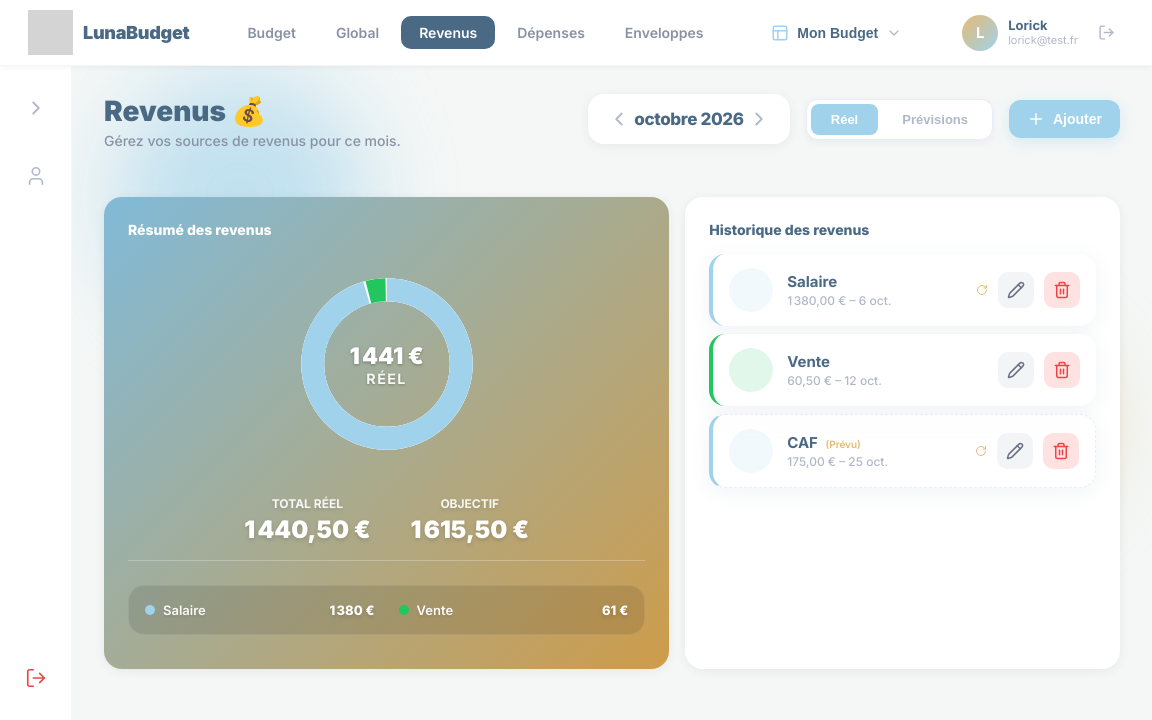
Scenario: cache des données › revenir sur une page déjà visitée l'affiche immédiatement, sans nouvelle requête
Click the link "Dépenses" at (551,32), box [517,24,585,41]
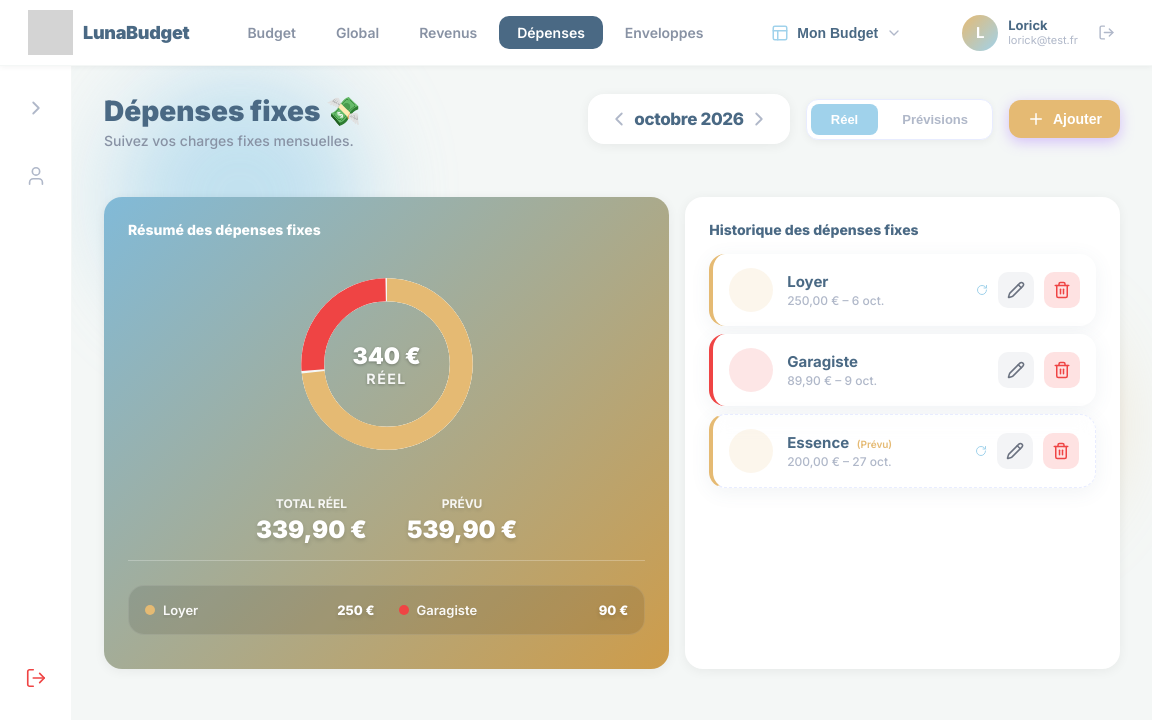
Now the element that starts with "LunaBudget" shows "Historique des dépenses fixes", box [709,221,919,238]
Click the link "Revenus" at (448,32), box [419,24,477,41]
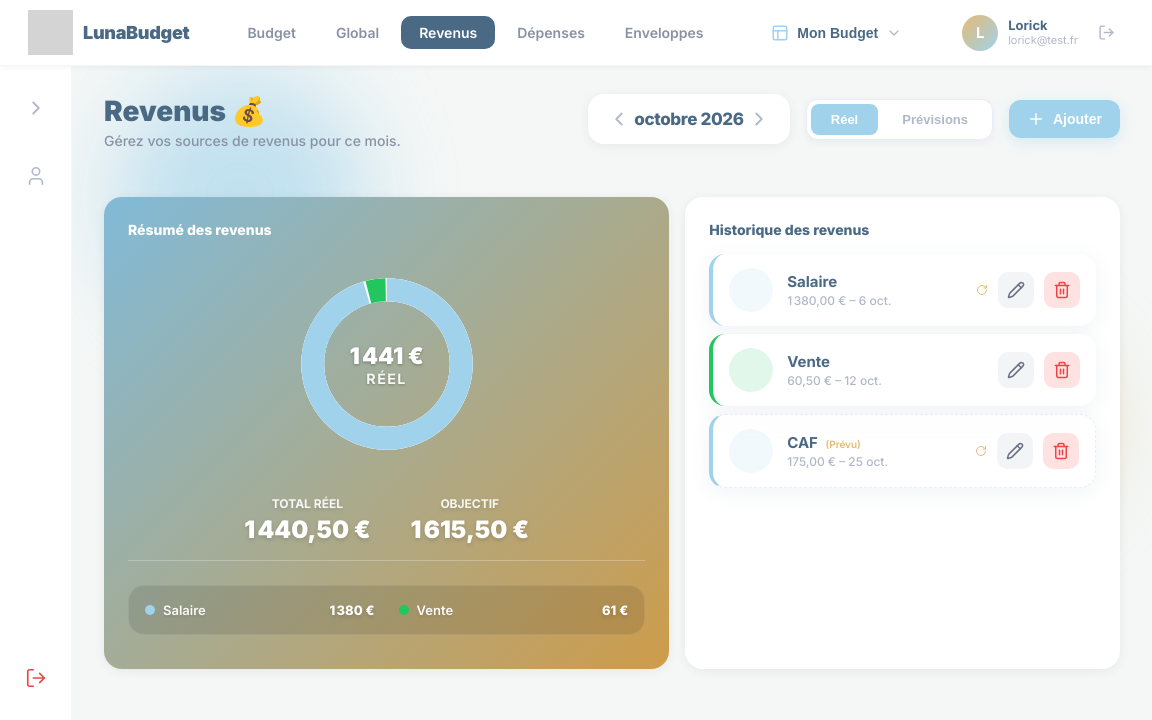
Now the element that starts with "LunaBudget" shows "Salaire", box [163,602,206,618]
